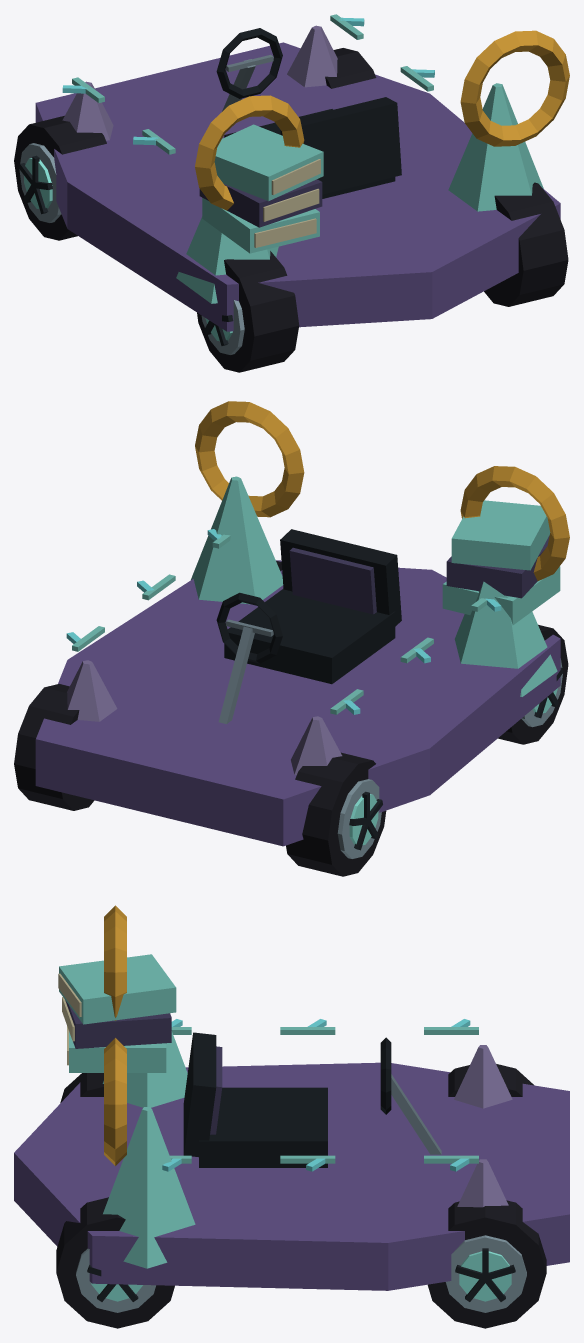
File: kart.glb
3 views of the same model, one above another, from view 1: azimuth 30°, elevation 25°; view 2: azimuth 150°, elevation 25°; view 3: azimuth 270°, elevation 25° (orthographic). The views are drawn at different scales.
Visible parts, largest first — view 1: identity-crystal-crystal-faceted-platform, identity-crystal-motif-books, identity-crystal-driver-cockpit, identity-crystal-motif-ring, wheel-rear-left, wheel-rear-right, wheel-front-left, identity-crystal-motif-runes, wheel-front-right; view 2: identity-crystal-crystal-faceted-platform, identity-crystal-driver-cockpit, identity-crystal-motif-books, identity-crystal-motif-ring, wheel-front-left, wheel-front-right, identity-crystal-motif-runes, wheel-rear-left; view 3: identity-crystal-crystal-faceted-platform, identity-crystal-driver-cockpit, wheel-front-right, identity-crystal-motif-books, wheel-rear-right, identity-crystal-motif-ring, identity-crystal-motif-runes, wheel-front-left, wheel-rear-left.
Part boxes in pixels (x1,y1,x2,y2): identity-crystal-crystal-faceted-platform: (35, 25, 560, 331); identity-crystal-motif-books: (199, 124, 323, 253); identity-crystal-driver-cockpit: (216, 28, 401, 198); identity-crystal-motif-ring: (195, 30, 569, 210); wheel-rear-left: (197, 251, 299, 372); wheel-rear-right: (484, 182, 568, 306); wheel-front-left: (14, 115, 106, 240); identity-crystal-motif-runes: (62, 14, 434, 154); wheel-front-right: (325, 48, 376, 88); identity-crystal-crystal-faceted-platform: (35, 476, 560, 846); identity-crystal-driver-cockpit: (216, 529, 401, 723); identity-crystal-motif-books: (442, 500, 560, 625); identity-crystal-motif-ring: (195, 401, 569, 580); wheel-front-left: (286, 752, 386, 876); wheel-front-right: (14, 684, 94, 810); identity-crystal-motif-runes: (66, 529, 501, 714); wheel-rear-left: (498, 624, 568, 744); identity-crystal-crystal-faceted-platform: (14, 1031, 569, 1290); identity-crystal-driver-cockpit: (183, 1032, 441, 1167); wheel-front-right: (427, 1200, 546, 1328); identity-crystal-motif-books: (58, 954, 176, 1072); wheel-rear-right: (56, 1197, 174, 1328); identity-crystal-motif-ring: (104, 905, 126, 1165); identity-crystal-motif-runes: (162, 1019, 478, 1171); wheel-front-left: (448, 1064, 534, 1096); wheel-rear-left: (60, 1073, 103, 1102).
Bounding box in the file's own units: 2.09 × 1.42 × 2.63.
